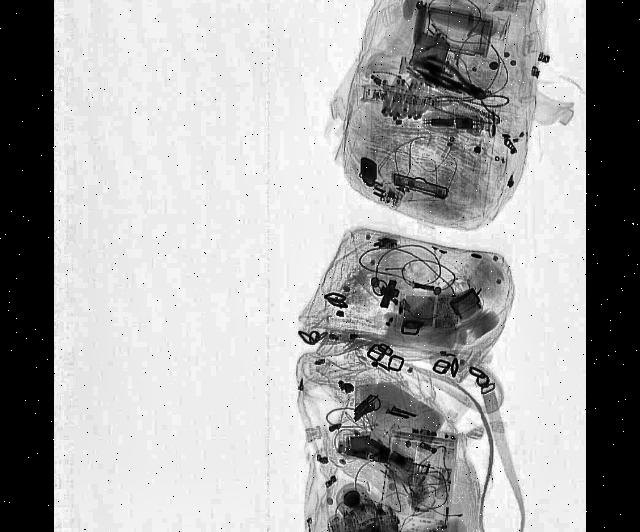Pliers: (418, 50, 488, 110)
